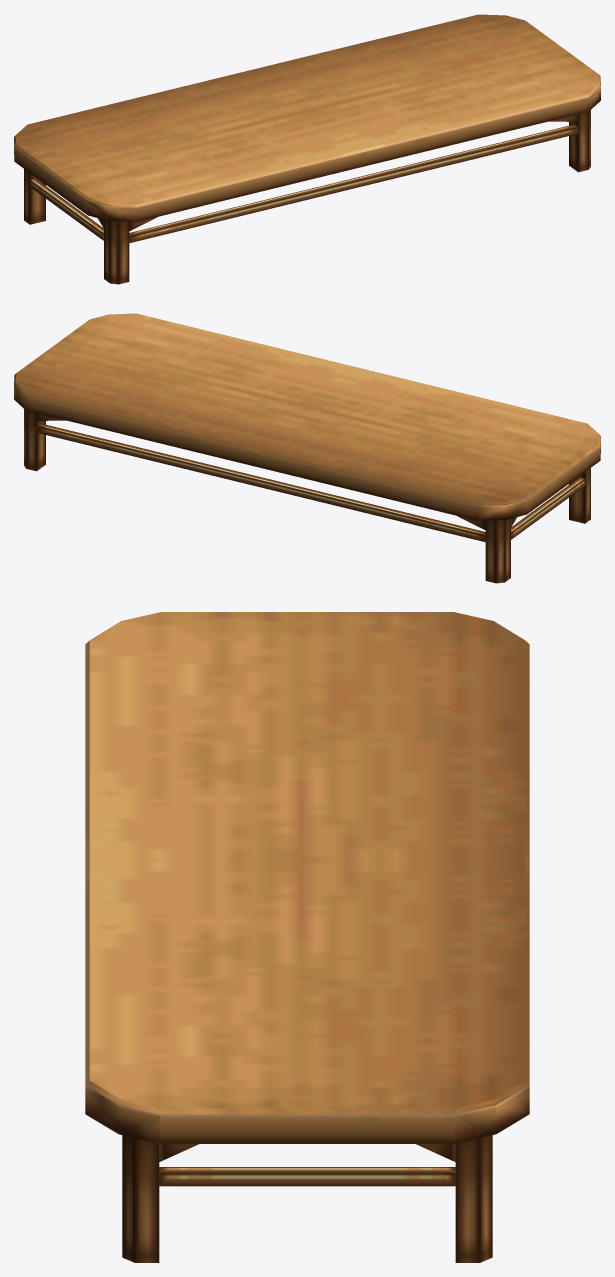
The model's file is Inside_Poly_Table_02.obj.
3 views of the same model, one above another, from view 1: azimuth 30°, elevation 25°; view 2: azimuth 150°, elevation 25°; view 3: azimuth 270°, elevation 25° (orthographic). The views are drawn at different scales.
Visible parts, largest first — view 1: Cube.006, Cube.003, Cube.001, Cube.005; view 2: Cube.006, Cube.003, Cube.001, Cube.005; view 3: Cube.006, Cube.001, Cube.005.
Part boxes in pixels (x1,y1,x2,y2): Cube.006: [14, 14, 600, 221]; Cube.003: [127, 124, 579, 243]; Cube.001: [24, 110, 590, 284]; Cube.005: [29, 178, 103, 240]; Cube.006: [14, 313, 600, 520]; Cube.003: [35, 423, 487, 542]; Cube.001: [24, 409, 590, 583]; Cube.005: [511, 477, 585, 539]; Cube.006: [85, 612, 529, 1143]; Cube.001: [122, 1135, 492, 1262]; Cube.005: [159, 1167, 455, 1186].
Size of the model in its own units: 3.2 by 0.5 by 1.2.
1 material, 1 textured.
